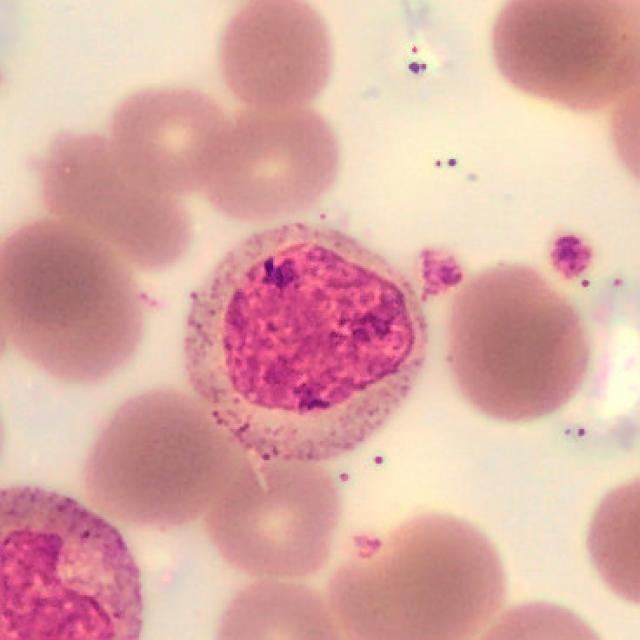Mielocito: (190, 223, 419, 465)
